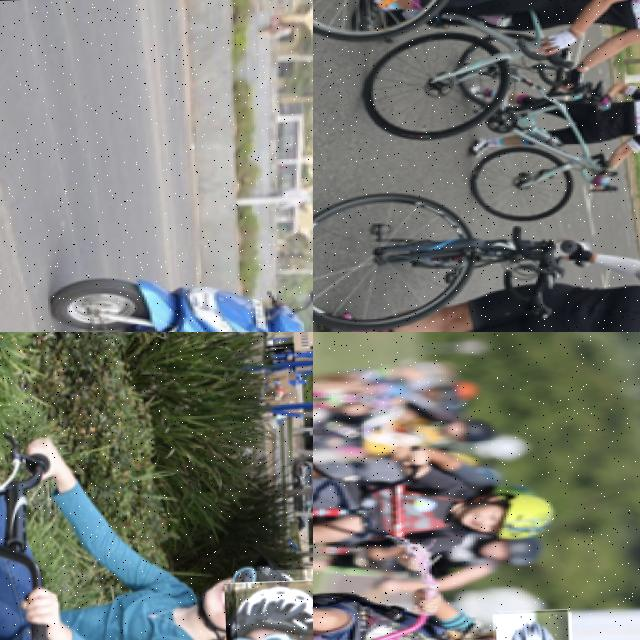helmet: (459, 481, 563, 546), (233, 568, 313, 640), (491, 611, 573, 640)
